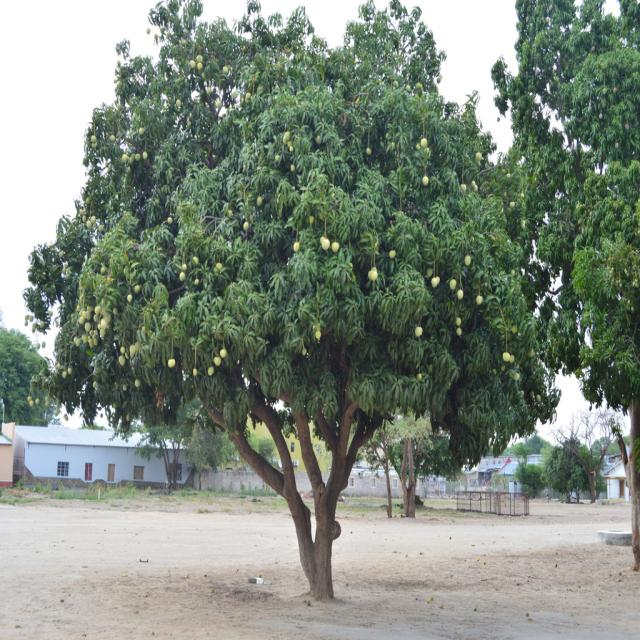Mango-Tree: (44, 36, 545, 596)
